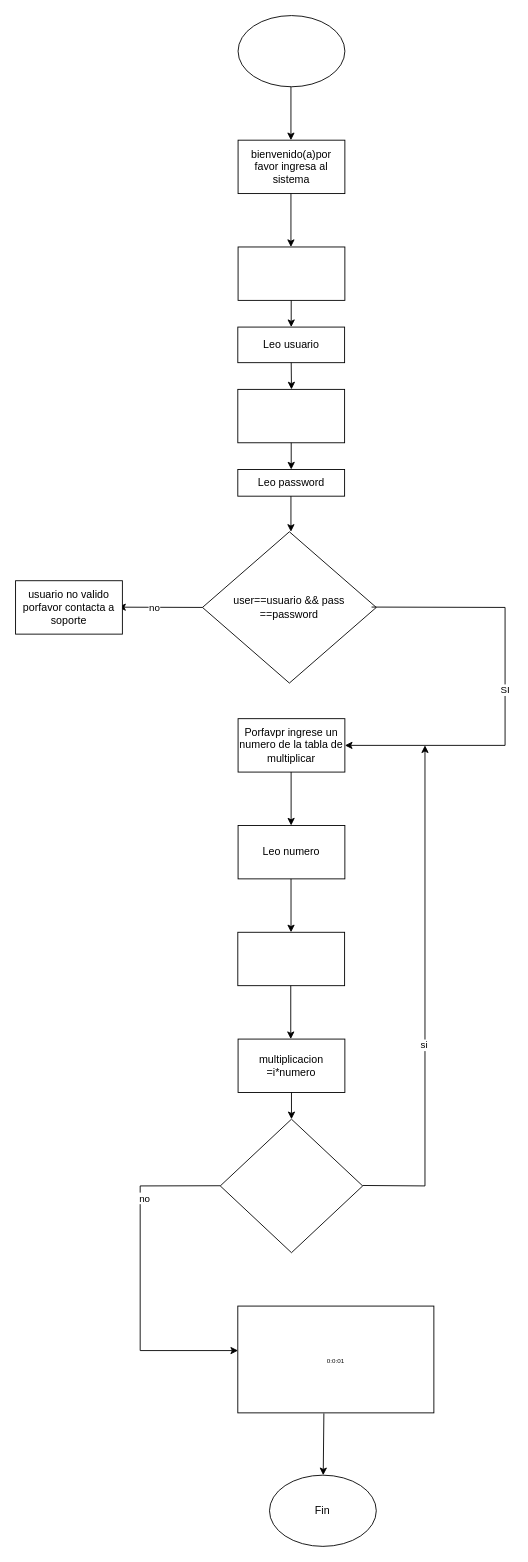
Image size: 528x1562. Some labels were removed from this diagram. Here are the shapes that lost their labels. From the top down, the centre of each, then its label:
At point (291, 51): "Inicio".
At point (291, 273): "ingresa tu usuario".
At point (291, 415): "Ingresa tu password".
At point (291, 958): "i=1;i<=10;i++".
At point (291, 1185): "¿Quieres generar otro numero de la tabla de multiplicar?".
